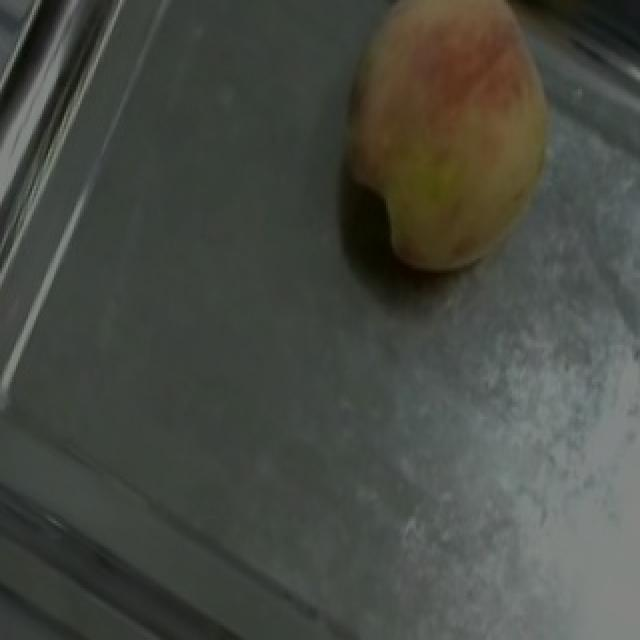Fruit: (292, 0, 572, 298)
